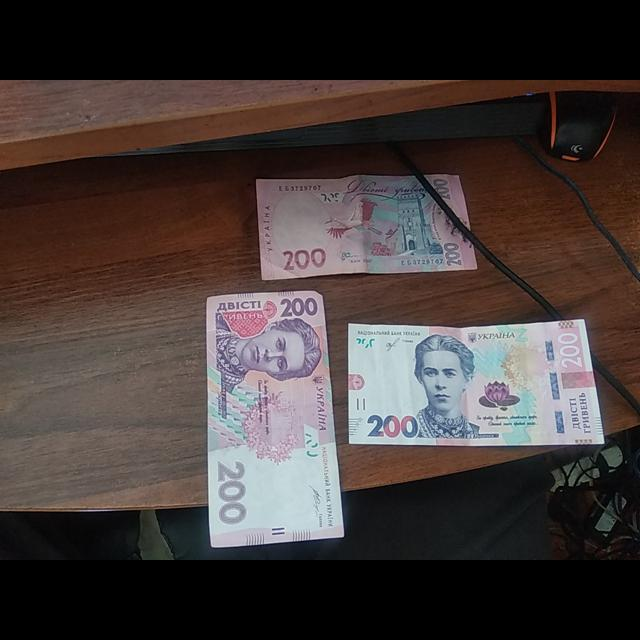200uah: (206, 294, 343, 549), (349, 319, 601, 445), (256, 172, 478, 281)
